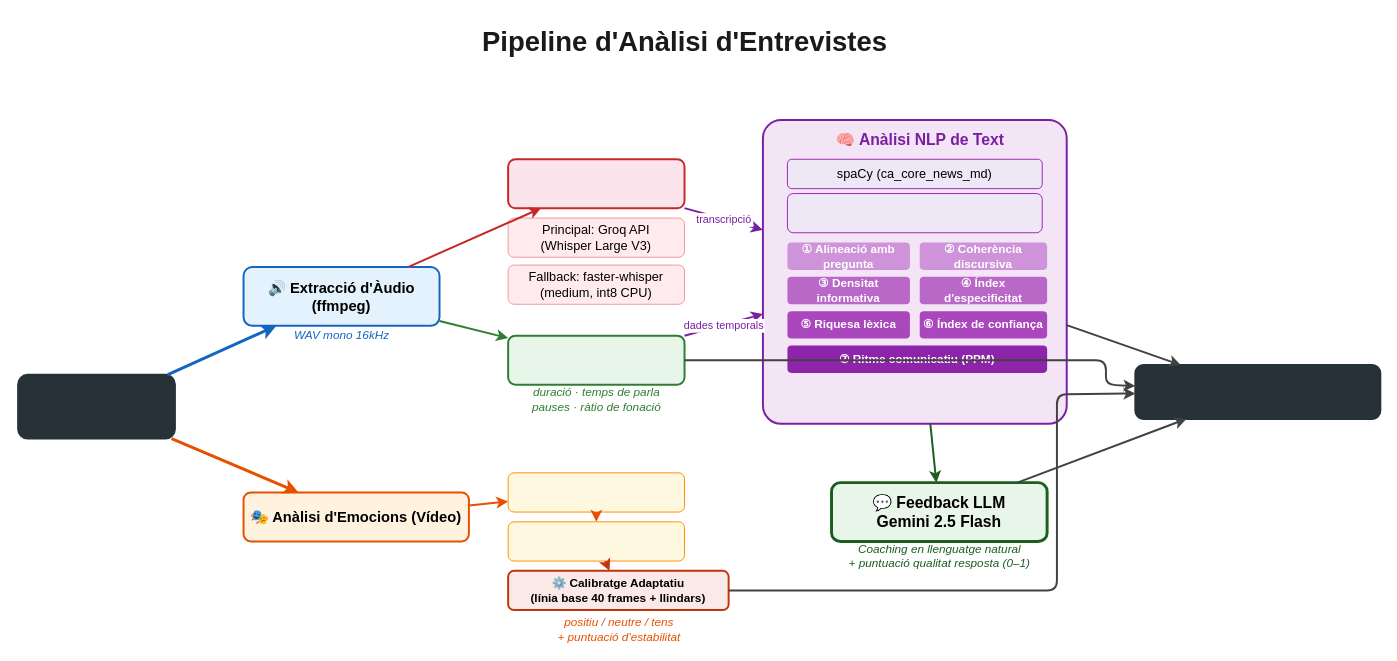
This 1397x661 diagram has some shape labels left out. Each missing label, with the centre of its shape:
"DeepFace (classificació emocional)" goes at (x=596, y=541).
"MediaPipe FaceMesh (detecció facial)" goes at (x=596, y=492).
"SentenceTransformer (MiniLM-L12-v2 multilingüe)" goes at (x=914, y=213).
"📄 Resposta JSON Estructurada" goes at (x=1257, y=391).
"📊 Mètriques DSP (librosa)" goes at (x=596, y=359).
"📹 Entrada Vídeo (.mp4/.webm)" goes at (x=96, y=406).
"🗣️ Transcripció" goes at (x=596, y=183).
